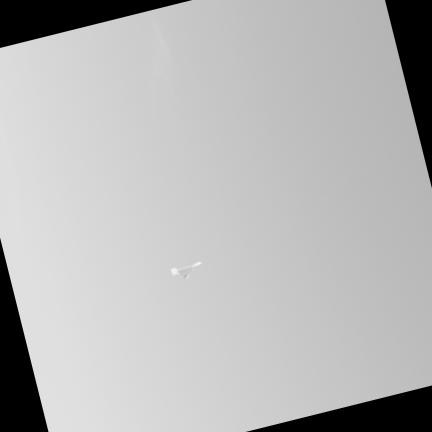Shahed: (170, 262, 199, 279)
